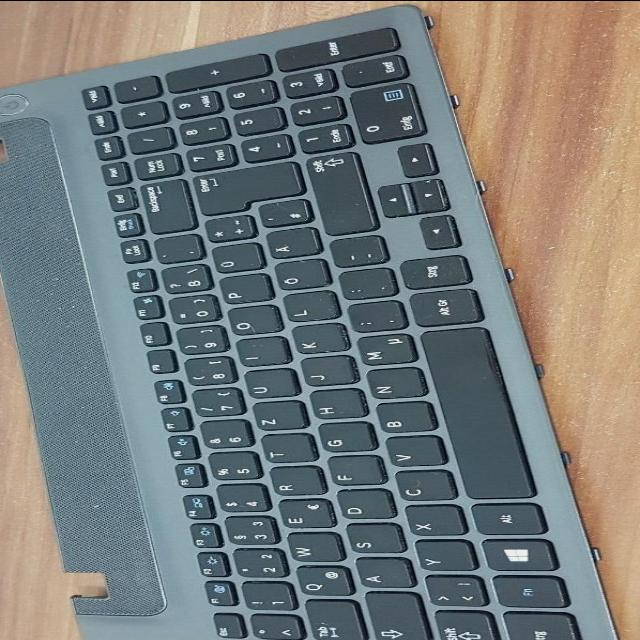0: (163, 296, 215, 326)
1: (237, 584, 291, 613)
2: (228, 550, 280, 580)
3: (219, 517, 273, 547)
4: (211, 485, 263, 514)
5: (203, 453, 255, 482)
6: (195, 422, 247, 451)
7: (187, 390, 239, 419)
8: (179, 359, 231, 387)
9: (172, 327, 222, 357)
a: (351, 559, 409, 589)
accent: (149, 236, 198, 266)
ae: (262, 229, 316, 261)
alt-left: (468, 505, 541, 537)
altgr-right: (404, 290, 477, 328)
b: (371, 403, 432, 435)
c: (391, 471, 451, 503)
caret: (246, 616, 298, 640)
comma: (343, 303, 401, 335)
d: (332, 491, 391, 521)
del: (138, 181, 190, 235)
e: (273, 501, 331, 531)
enter: (189, 163, 298, 217)
f: (324, 457, 380, 487)
g: (314, 424, 372, 454)
h: (306, 391, 362, 421)
hash: (252, 201, 306, 229)
i: (231, 338, 285, 368)
j: (296, 357, 354, 388)
k: (287, 325, 343, 356)
keyboard: (49, 2, 633, 640)
l: (279, 293, 335, 324)
less: (419, 577, 482, 609)
m: (351, 335, 411, 367)
minus: (324, 237, 382, 270)
n: (362, 369, 422, 401)
o: (223, 307, 277, 337)
oe: (270, 260, 324, 292)
p: (215, 276, 269, 306)
plus: (198, 217, 250, 245)
point: (335, 270, 391, 302)
q: (292, 567, 348, 598)
r: (265, 468, 321, 498)
s: (342, 525, 401, 555)
shift-left: (428, 612, 492, 640)
shift-lock: (360, 593, 424, 640)
shift-right: (303, 152, 371, 238)
space: (418, 328, 530, 501)
ss: (156, 266, 206, 296)
strg-left: (497, 613, 576, 640)
strg-right: (397, 257, 467, 291)
t: (257, 435, 311, 465)
tab: (300, 602, 360, 640)
u: (240, 370, 294, 400)
ue: (205, 245, 259, 275)
v: (381, 437, 442, 469)
w: (282, 534, 340, 564)
x: (401, 507, 462, 538)
y: (410, 541, 472, 573)
z: (247, 402, 303, 432)
